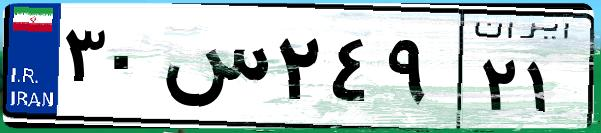0: (110, 28, 158, 98)
1: (525, 38, 570, 115)
2: (270, 28, 330, 110), (475, 38, 525, 113)
3: (57, 26, 110, 100)
4: (330, 28, 385, 110)
9: (385, 28, 445, 110)
س: (158, 20, 270, 120)
